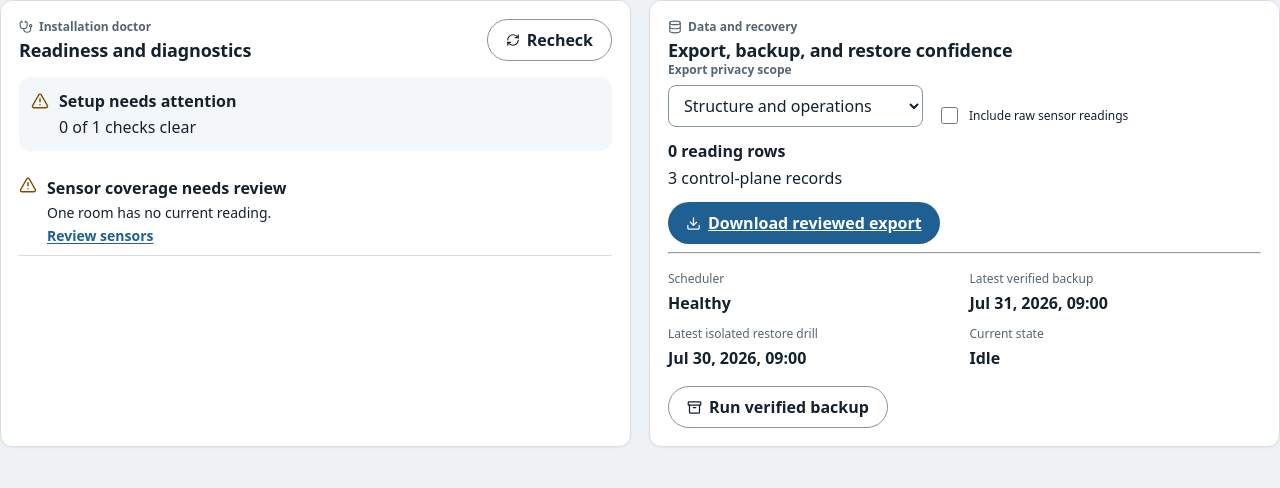
SystemOperationsPanel › loads diagnostics and backup state, reviews export scope, and requests a backup
The width and height of the screenshot is (1280, 488).
Expected: the text "Sensor coverage needs review" is shown, [47,177,286,199]
Select "Full control-plane data" in the dropdown labelled "Export privacy scope" at [796, 106], box [668,85,923,127]
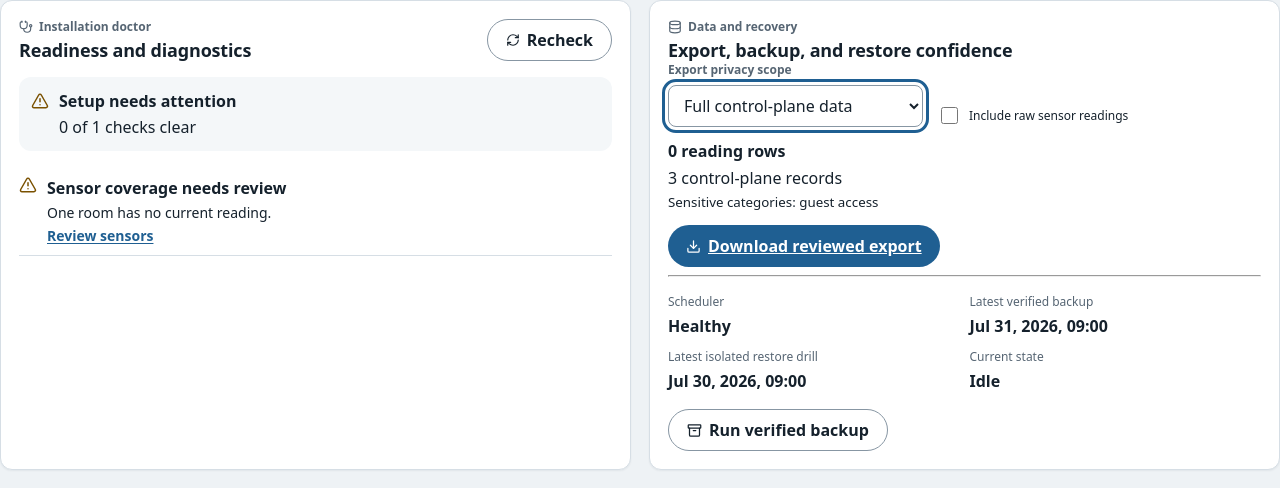
Click the checkbox labelled "Include raw sensor readings" at [950, 116], box [941,107,958,124]
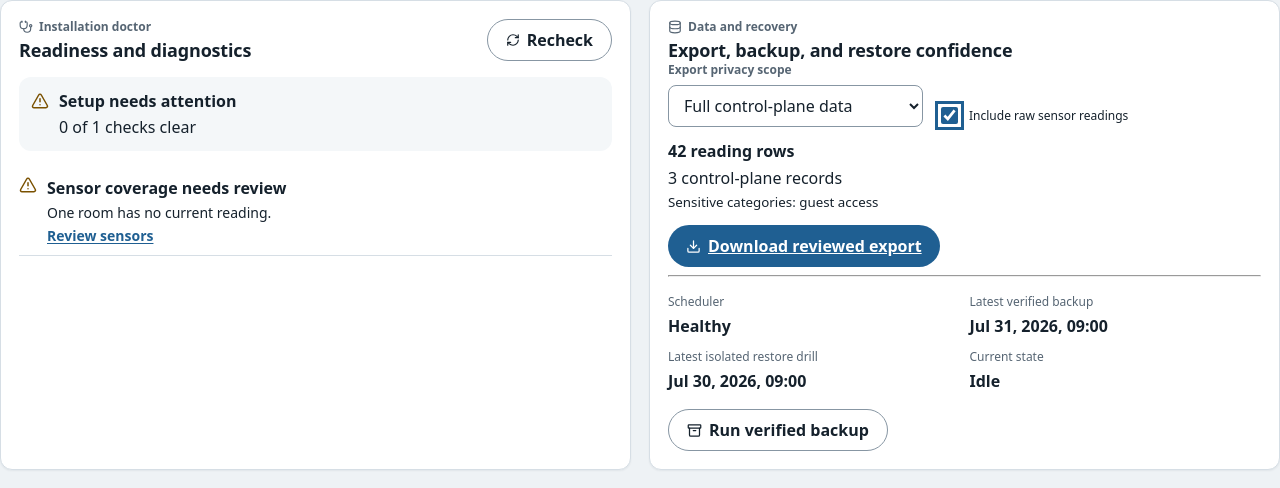
Now the text "42 reading rows" is shown, box [668,140,794,162]
Click the button "Recheck" at [549, 40], box [487,19,612,61]
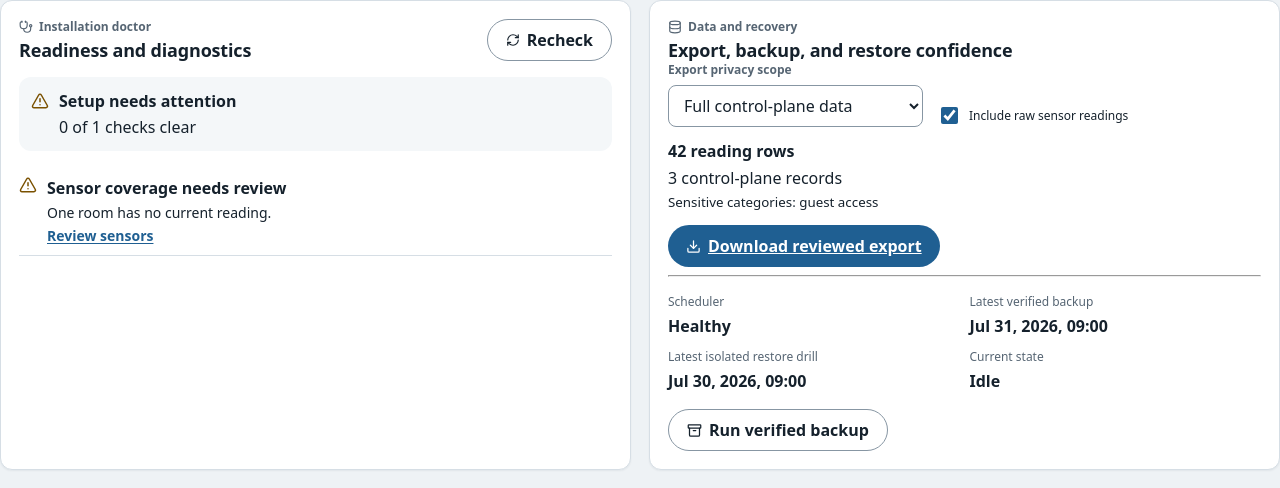
Click the button "Run verified backup" at [778, 430], box [668,409,888,451]
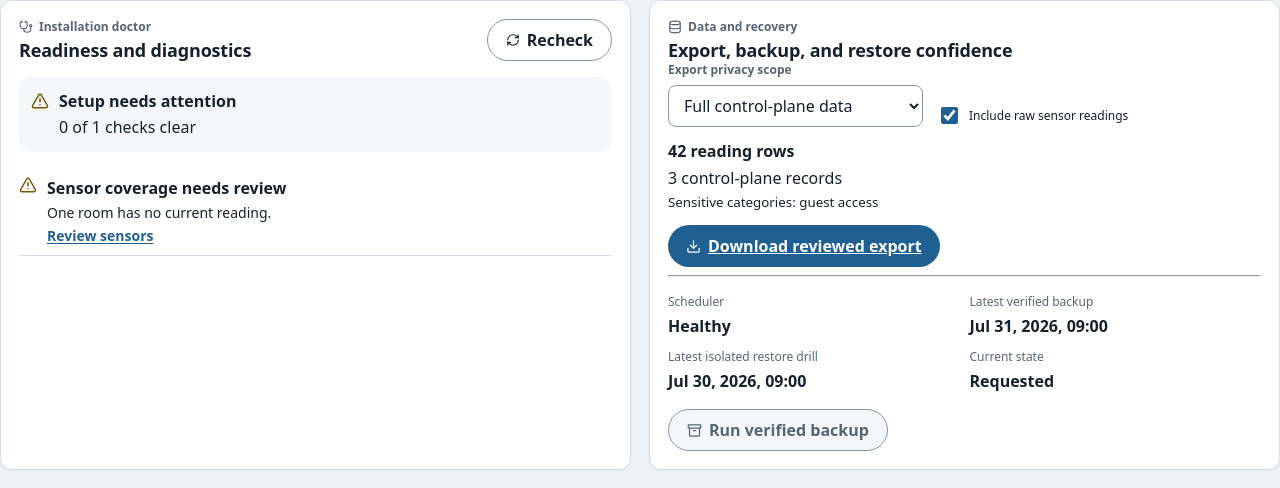
Now the text "Requested" is shown, box [970,370,1054,392]
Now the button "Run verified backup" is disabled, box [668,409,888,451]
